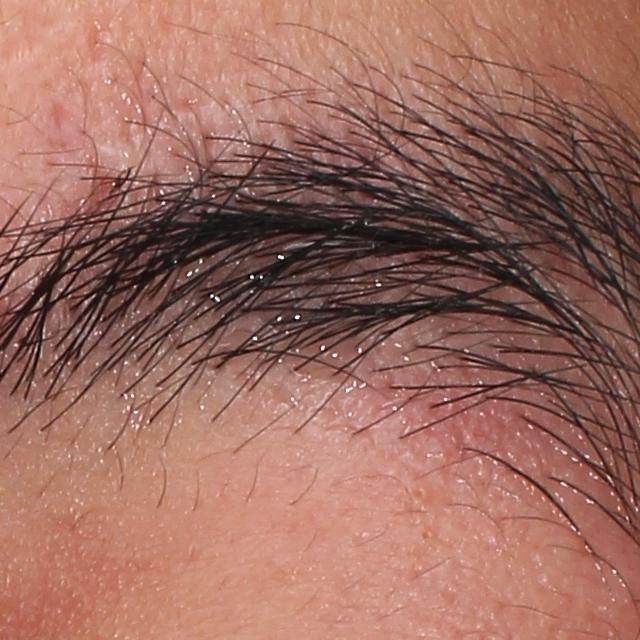atrophic_scar: (84, 18, 112, 67), (44, 99, 64, 137)
comedo: (408, 522, 435, 547), (409, 483, 436, 506)
